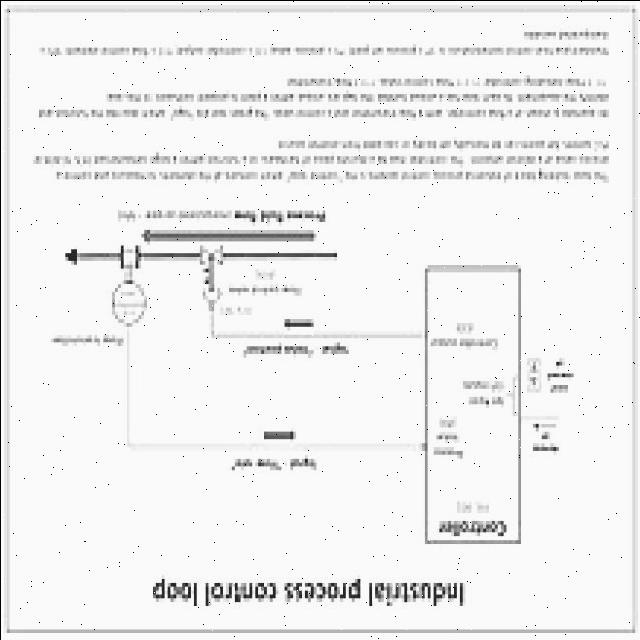Pneumatic-Diaphragm Gate Valve: (192, 240, 226, 306)
